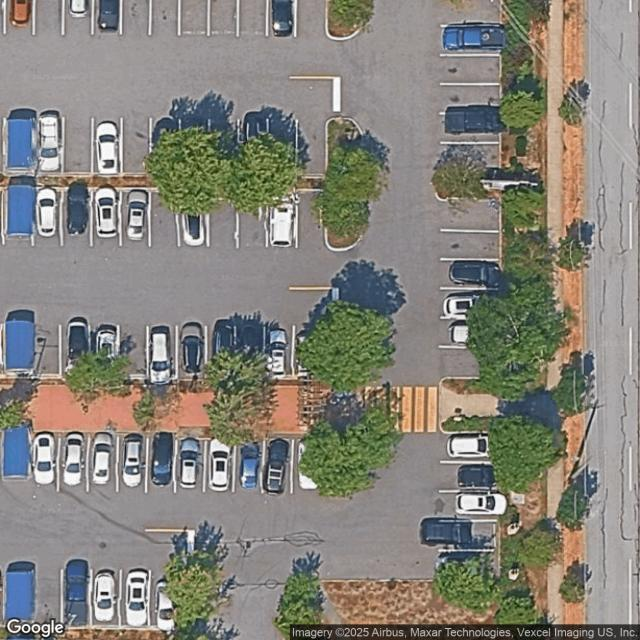car: (63, 558, 91, 626), (441, 23, 505, 52), (441, 106, 501, 136), (424, 518, 483, 547), (37, 110, 62, 172), (262, 438, 290, 493), (442, 320, 497, 348), (147, 326, 173, 384), (449, 261, 502, 288), (180, 321, 205, 376), (125, 568, 149, 625), (66, 316, 90, 371), (66, 181, 90, 236), (32, 432, 57, 484), (94, 186, 119, 237), (92, 433, 115, 488), (93, 569, 116, 623), (212, 318, 238, 365), (62, 432, 85, 485), (151, 433, 174, 486), (268, 204, 296, 247), (455, 492, 505, 516), (96, 120, 119, 172), (238, 315, 262, 364), (208, 439, 231, 490), (443, 292, 491, 316), (178, 438, 201, 488), (238, 441, 261, 490), (126, 190, 148, 240), (456, 464, 496, 491), (446, 433, 488, 458), (266, 329, 288, 375), (36, 188, 57, 236), (156, 578, 174, 632), (125, 436, 143, 486), (95, 324, 118, 361), (181, 212, 206, 246), (272, 1, 294, 36), (99, 0, 119, 31), (10, 0, 32, 28), (69, 0, 88, 18)
lot_boundary: (0, 0, 506, 380), (0, 428, 500, 632)
objects: (3, 560, 37, 636), (3, 108, 39, 173), (2, 309, 37, 372), (4, 177, 38, 240), (1, 425, 33, 481)
